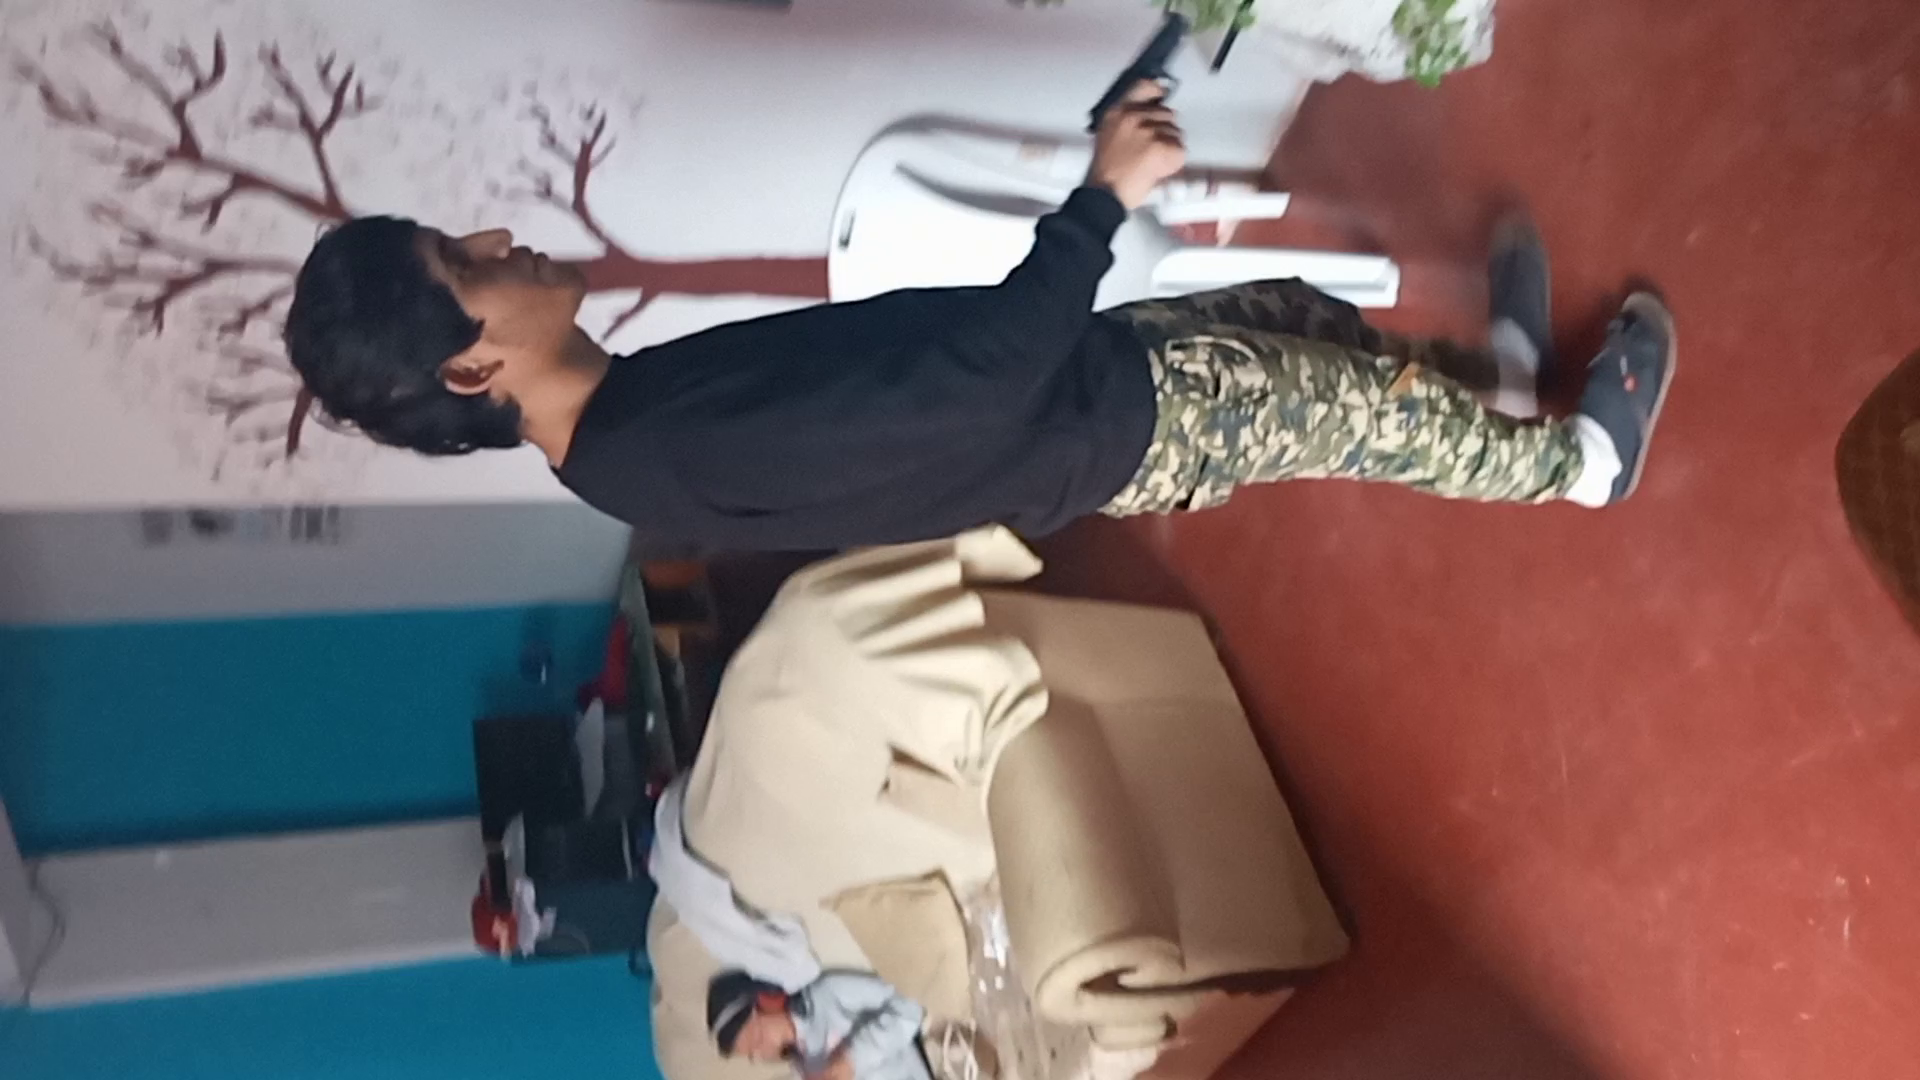Arma: (1091, 9, 1189, 131)
